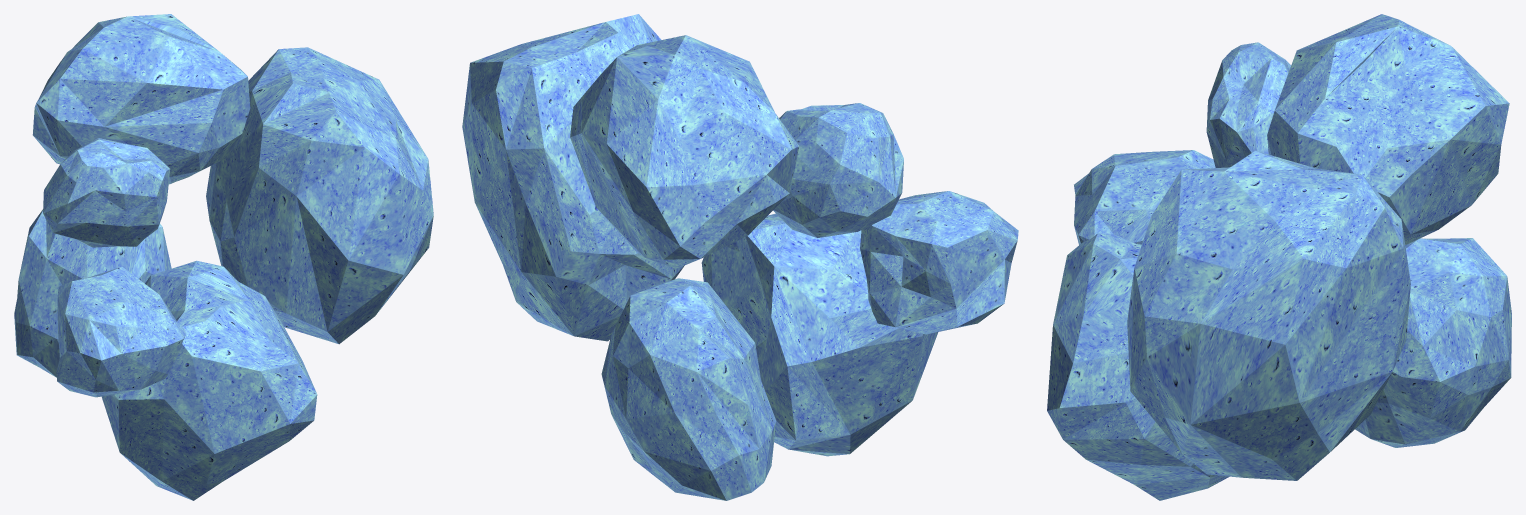
Rendered from ui_asteroid_med.fbx.
3 renders of one model, left to right at view 1: azimuth 30°, elevation 25°; view 2: azimuth 150°, elevation 25°; view 3: azimuth 270°, elevation 25°, orthographic. The views are drawn at different scales.
Parts seen in each view (by area): view 1: mesh_node; view 2: mesh_node; view 3: mesh_node.
Part boxes in pixels (left/top/right/bottom): mesh_node: left=14, top=14, right=433, bottom=500; mesh_node: left=462, top=14, right=1018, bottom=500; mesh_node: left=1047, top=14, right=1511, bottom=500.
Bounding box in the file's own units: 0.8319 × 0.7997 × 0.6828.
1 material, 1 textured.
